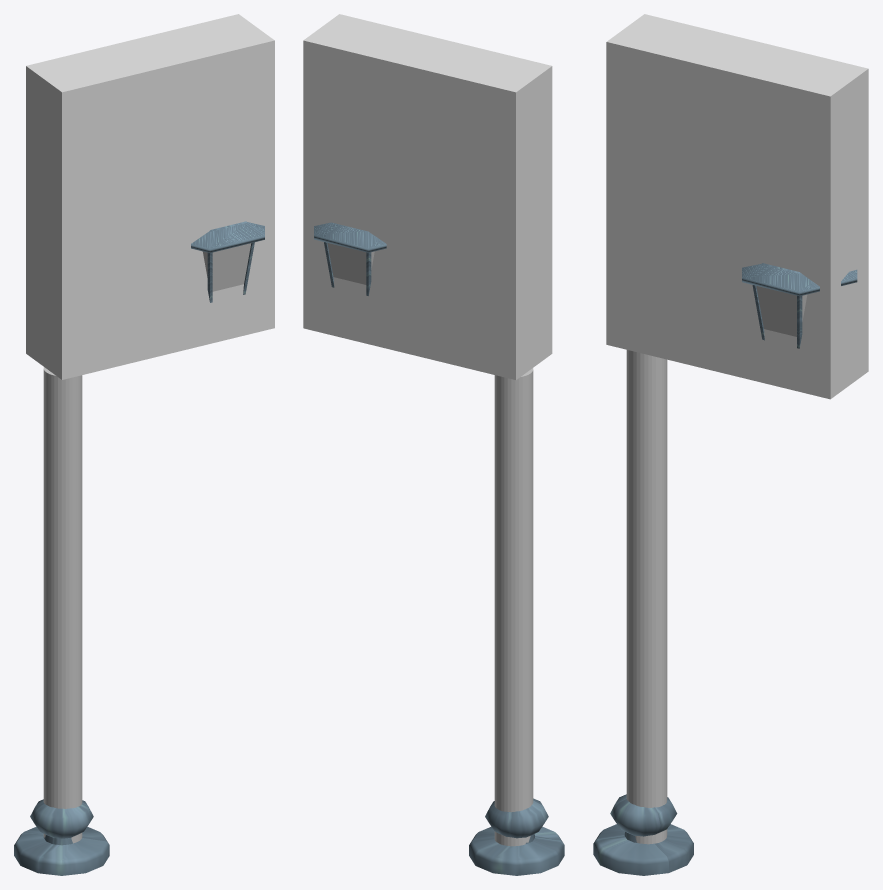
File: lamp_post2.fbx
3 renders of one model, left to right at view 1: azimuth 30°, elevation 25°; view 2: azimuth 150°, elevation 25°; view 3: azimuth 330°, elevation 25°, orthographic. The views are drawn at different scales.
Parts seen in each view (by area): view 1: PHY_BOX, PHY_CYLINDER, Lp_4, Lp_4.001; view 2: PHY_BOX, PHY_CYLINDER, Lp_4, Lp_4.001; view 3: PHY_BOX, PHY_CYLINDER, Lp_4, Lp_4.001.
Boxes of the visible parts, left/top/right/bottom form: PHY_BOX: left=26, top=14, right=274, bottom=379; PHY_CYLINDER: left=43, top=367, right=82, bottom=843; Lp_4: left=14, top=221, right=264, bottom=875; Lp_4.001: left=202, top=243, right=251, bottom=291; PHY_BOX: left=303, top=14, right=552, bottom=379; PHY_CYLINDER: left=494, top=368, right=533, bottom=846; Lp_4: left=314, top=222, right=564, bottom=875; Lp_4.001: left=327, top=243, right=374, bottom=284; PHY_BOX: left=606, top=14, right=868, bottom=399; PHY_CYLINDER: left=626, top=350, right=667, bottom=844; Lp_4: left=593, top=263, right=857, bottom=875; Lp_4.001: left=756, top=286, right=807, bottom=336.
Bounding box in the file's own units: 249 × 761 × 96.53.
